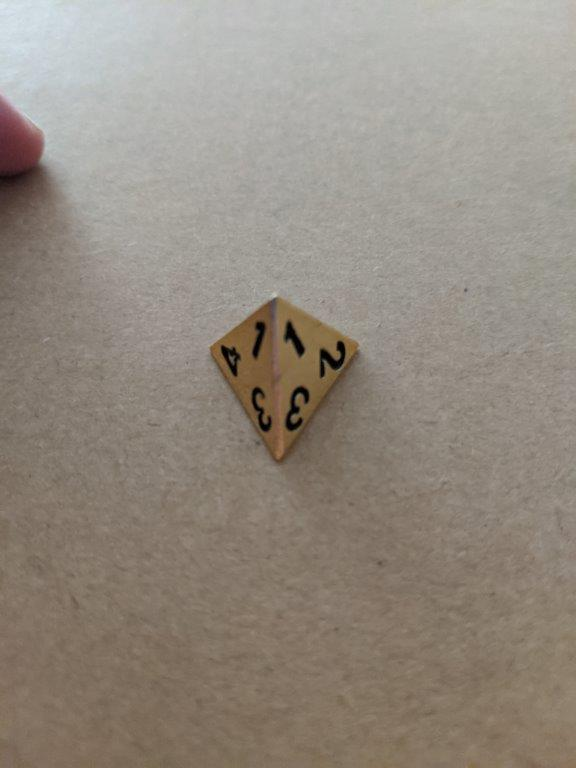d4-1: (206, 291, 366, 465)
